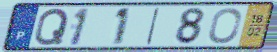1: (70, 7, 91, 47), (113, 7, 133, 46)
8: (174, 7, 207, 46)
I: (144, 6, 163, 46)
O: (207, 7, 243, 45)
Q: (33, 7, 71, 47)
